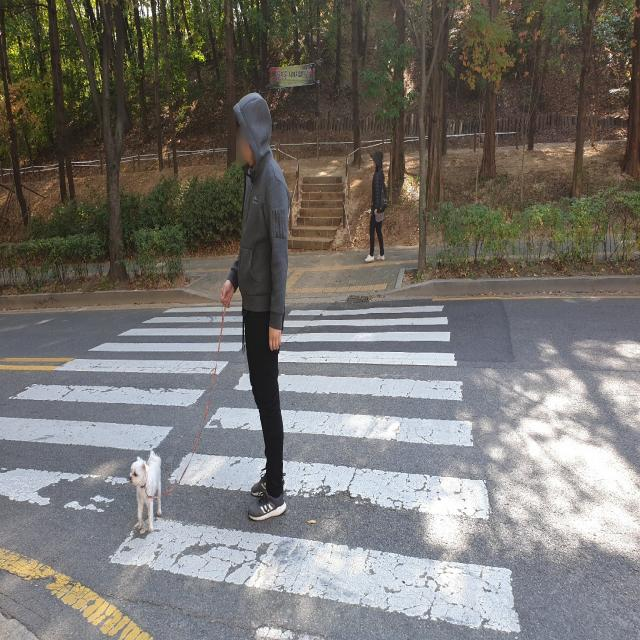횡단보도: (0, 305, 523, 640)
